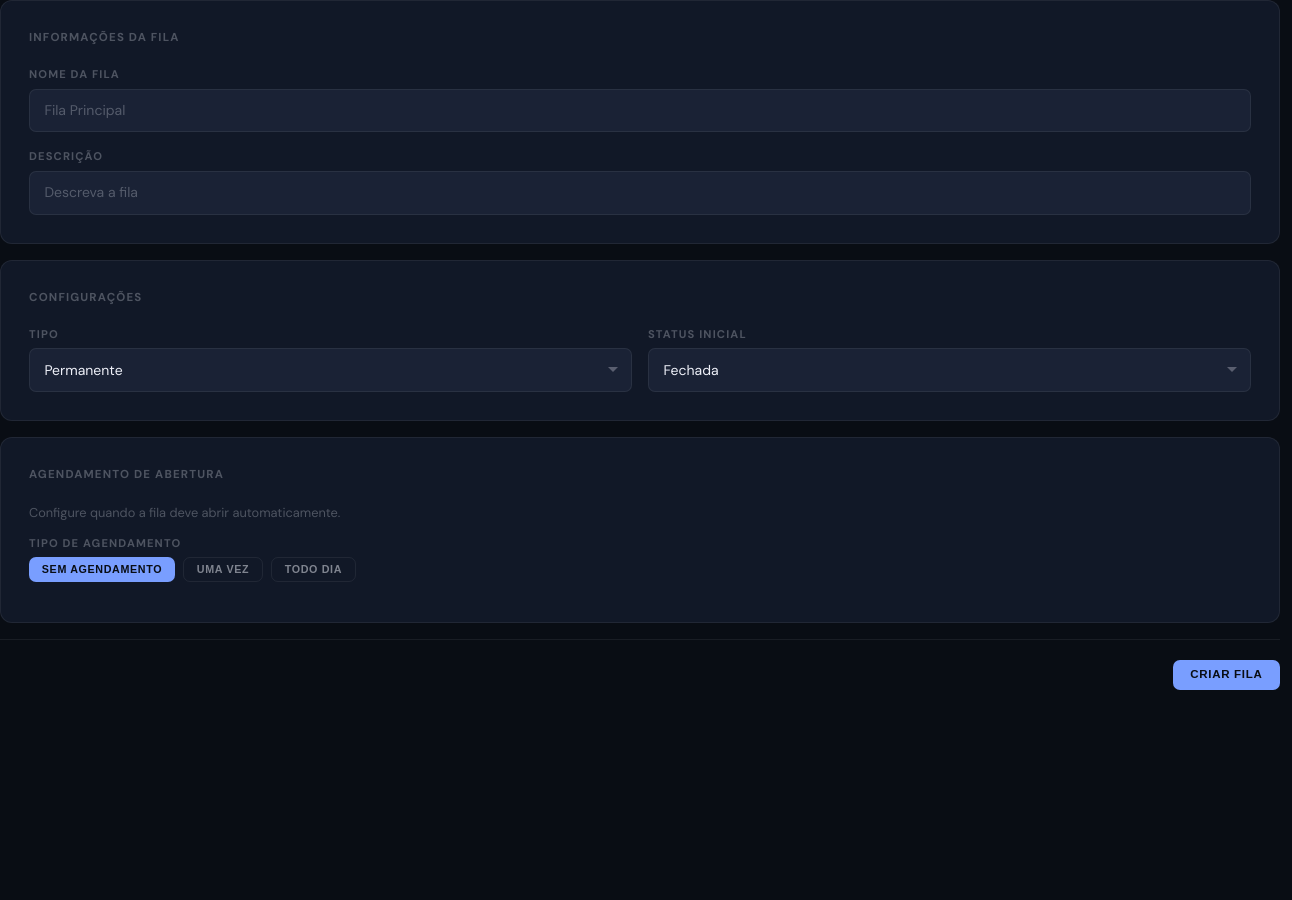
CreateQueueForm › hides datetime picker when 'sem agendamento' is selected
This screenshot has width=1292, height=900.
Click the button "Uma vez": (223, 570) [183,557,263,582]
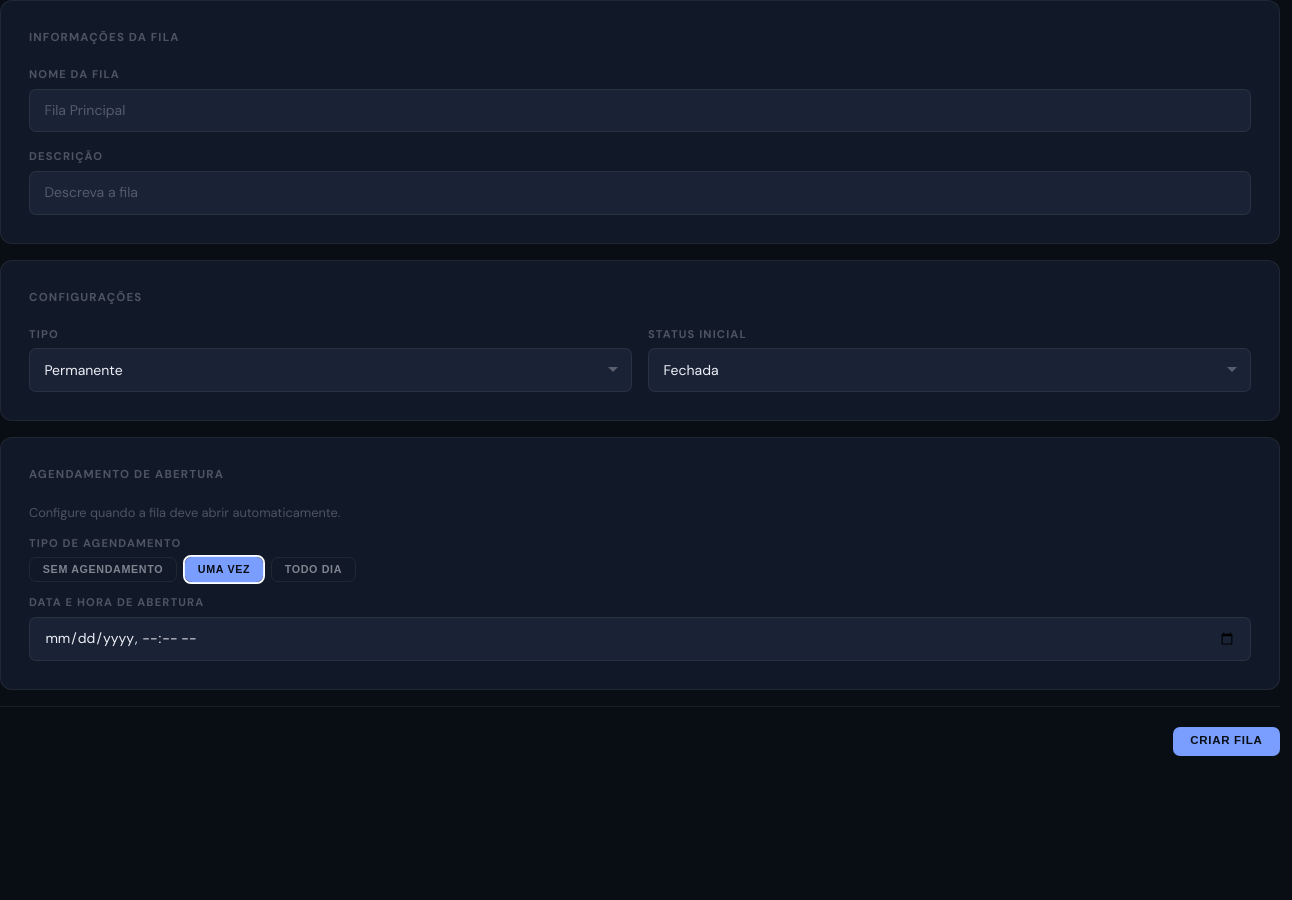
Click the button "Sem agendamento": (103, 570) [29,557,177,582]
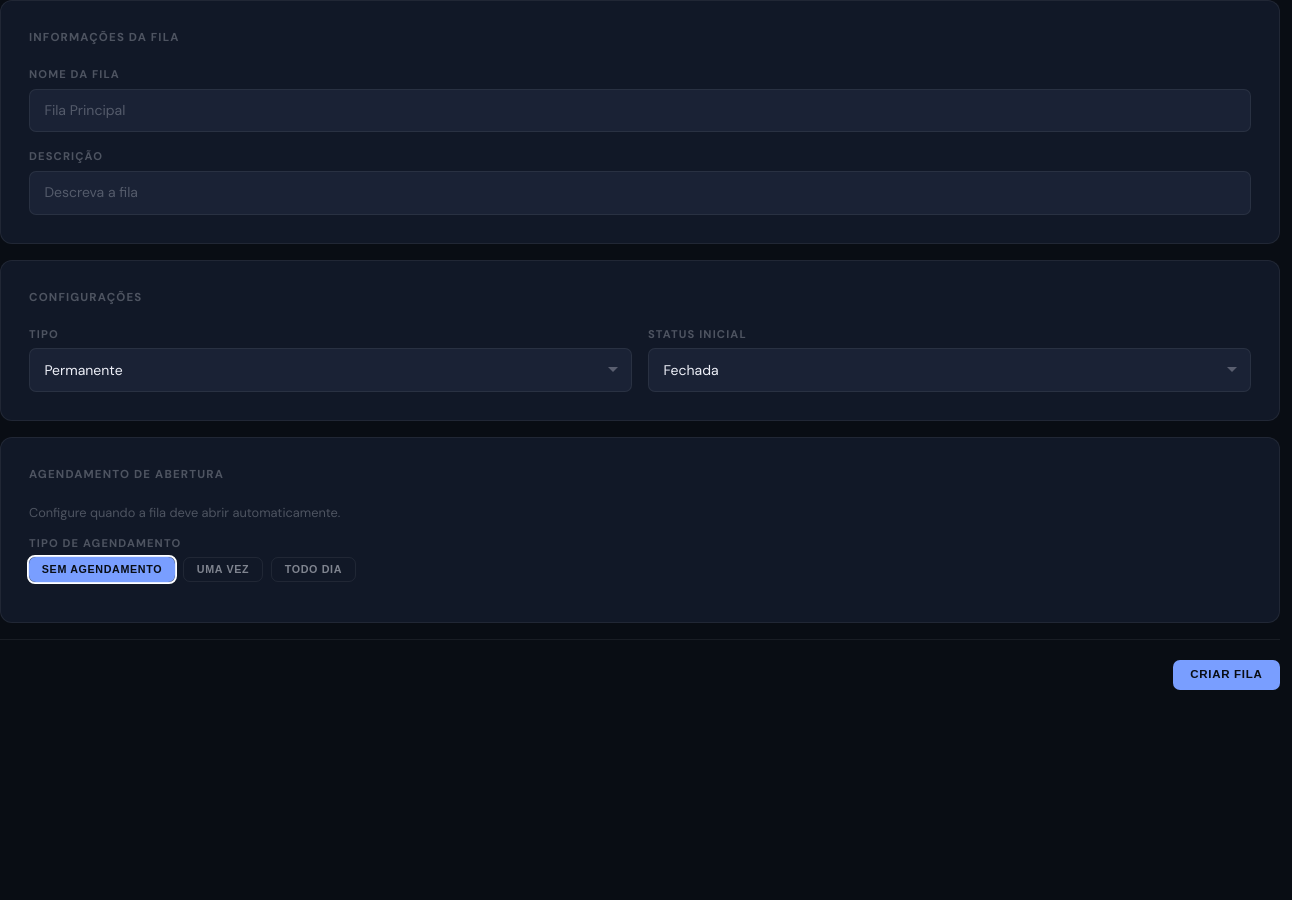
Check: the label labelled "Data e hora" is gone
